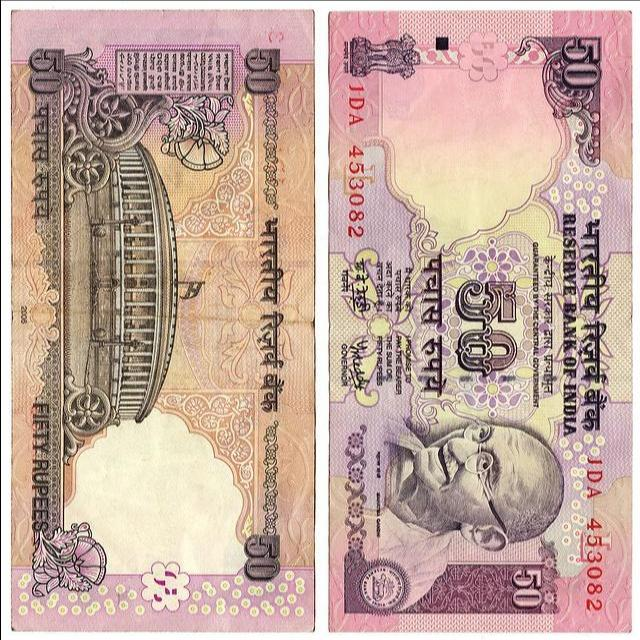50IndianRupees: (11, 10, 314, 622)
